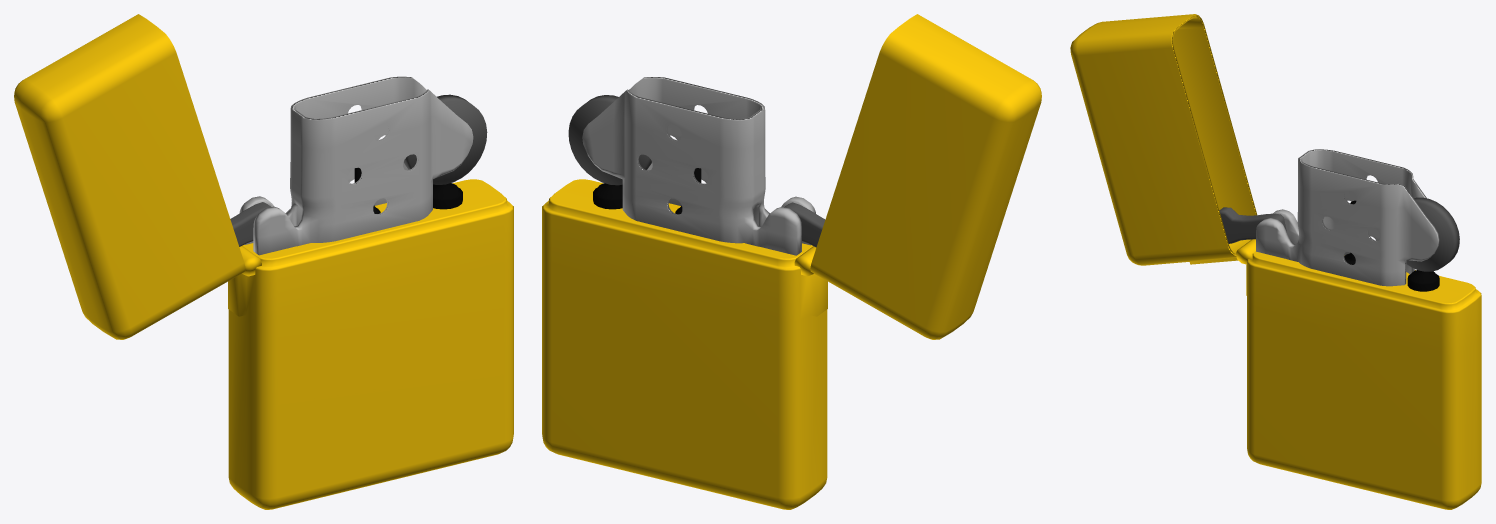
The model's file is lighter-ohio.fbx.
The picture shows the model from 3 angles, left to right: view 1: azimuth 30°, elevation 25°; view 2: azimuth 150°, elevation 25°; view 3: azimuth 330°, elevation 25°; orthographic projection. The views are drawn at different scales.
Parts seen in each view (by area): view 1: body_low, lid_low, top_low, wheel_low, hammer_low, flint_low; view 2: body_low, lid_low, top_low, wheel_low, hammer_low, flint_low; view 3: body_low, lid_low, top_low, wheel_low, hammer_low, flint_low.
Boxes of the visible parts, left/top/right/bottom form: body_low: left=228, top=179, right=513, bottom=509; lid_low: left=14, top=14, right=245, bottom=339; top_low: left=239, top=76, right=473, bottom=255; wheel_low: left=404, top=94, right=487, bottom=184; hammer_low: left=230, top=202, right=270, bottom=246; flint_low: left=433, top=183, right=462, bottom=209; body_low: left=542, top=179, right=827, bottom=509; lid_low: left=810, top=14, right=1041, bottom=339; top_low: left=582, top=77, right=815, bottom=255; wheel_low: left=568, top=95, right=651, bottom=185; hammer_low: left=784, top=202, right=825, bottom=247; flint_low: left=593, top=183, right=622, bottom=209; body_low: left=1246, top=251, right=1481, bottom=509; lid_low: left=1070, top=14, right=1257, bottom=265; top_low: left=1256, top=149, right=1439, bottom=286; wheel_low: left=1406, top=197, right=1459, bottom=271; hammer_low: left=1219, top=207, right=1286, bottom=243; flint_low: left=1407, top=270, right=1439, bottom=291.
Size of the model in its own units: 14.69 by 14.89 by 2.11.
